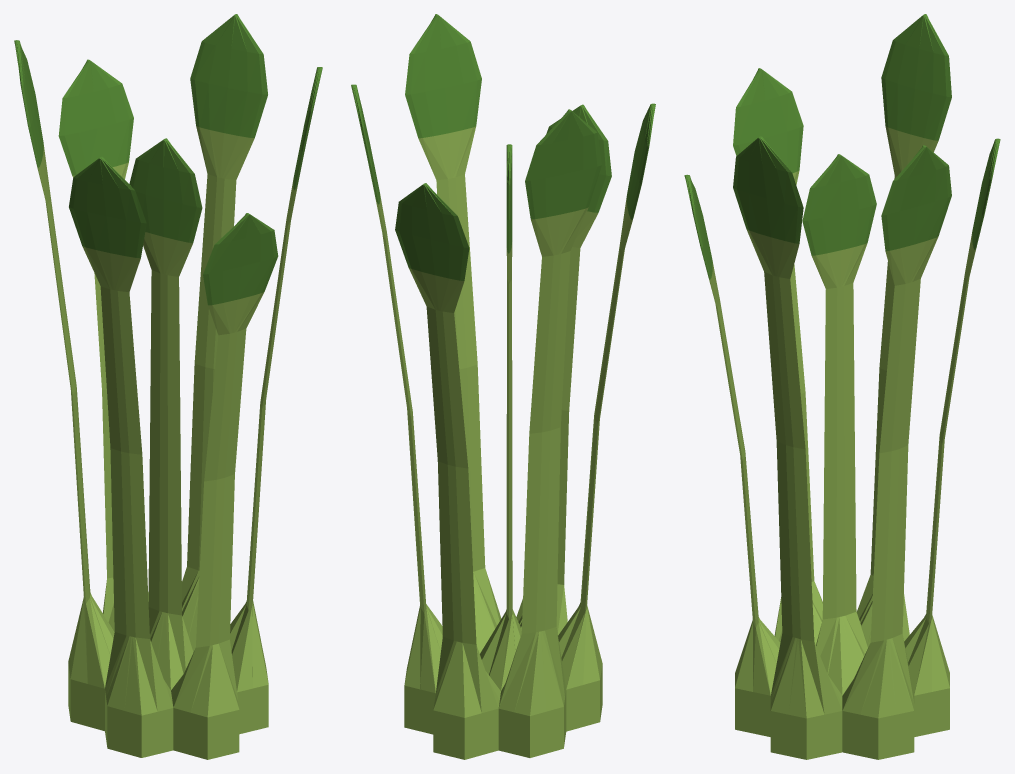
The model's file is NEW_RECOVERY_081_LOD2.fbx.
3 renders of one model, left to right at view 1: azimuth 30°, elevation 25°; view 2: azimuth 150°, elevation 25°; view 3: azimuth 270°, elevation 25°, orthographic. The views are drawn at different scales.
Visible parts, largest first — view 1: Whole_celery_bunch; view 2: Whole_celery_bunch; view 3: Whole_celery_bunch.
Boxes of the visible parts, box(x1,y1,x2,y2) form: Whole_celery_bunch: box(14, 14, 322, 759); Whole_celery_bunch: box(351, 14, 655, 759); Whole_celery_bunch: box(684, 14, 1000, 759).
Size of the model in its own units: 13.7 by 15.88 by 36.3.
